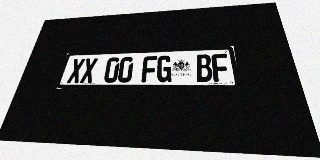0: (103, 57, 120, 83), (117, 57, 134, 83)
B: (196, 54, 213, 82)
F: (211, 53, 230, 82), (141, 56, 157, 82)
G: (156, 55, 172, 82)
X: (66, 58, 85, 83), (79, 58, 98, 83)
